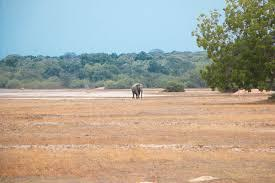elephant: (131, 83, 142, 98)
